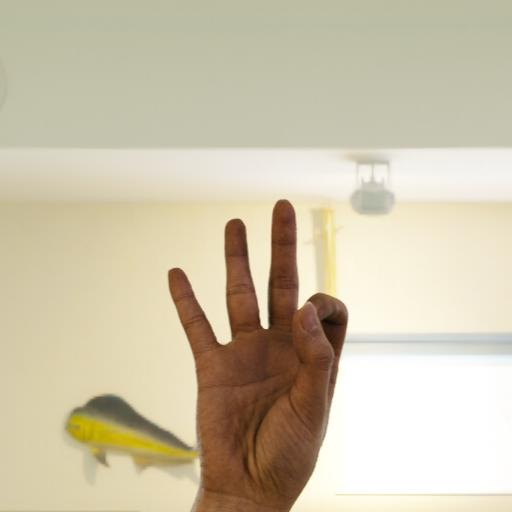F: (166, 192, 351, 512)
